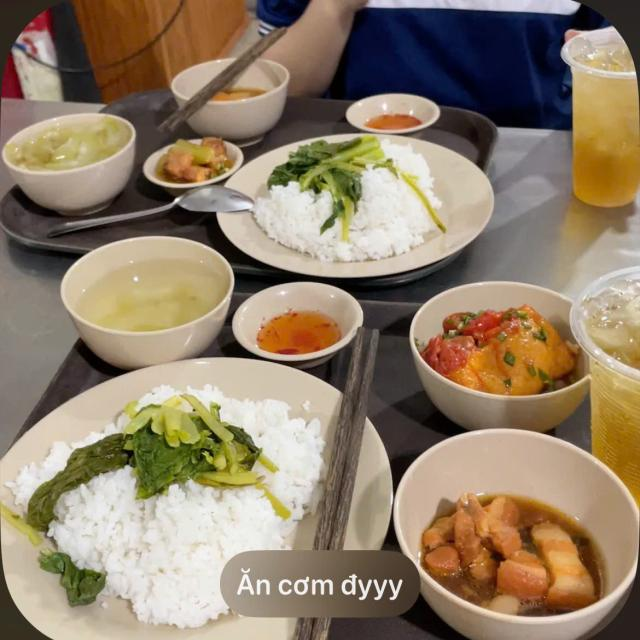thit_kho: (432, 480, 596, 614)
